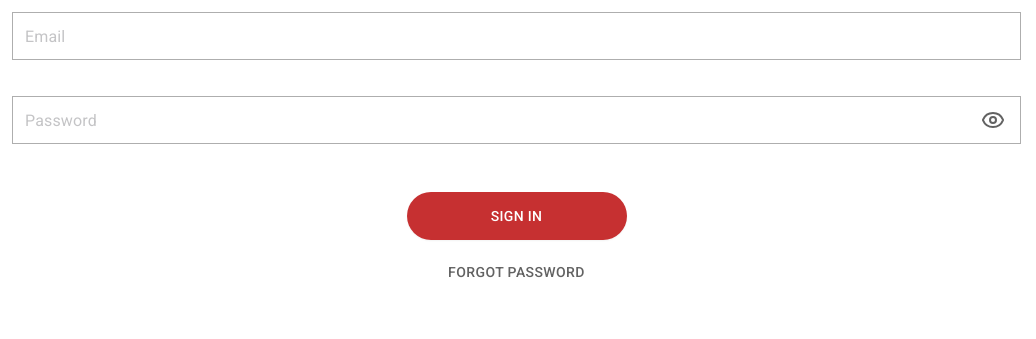
Test: LoginForm Component › should display validation errors when submitting an empty form
The image size is (1036, 339).
Click the button "SIGN IN" at (516, 216), box x1=406 y1=192 x2=626 y2=240
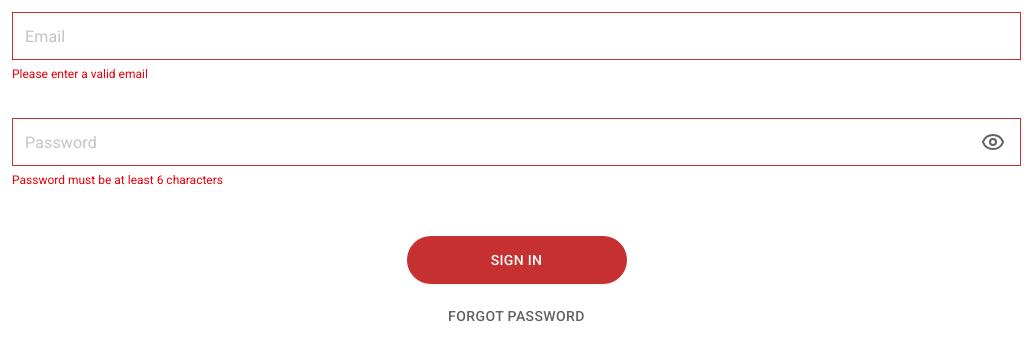
Expected: the text "Please enter a valid email" is shown, x1=12 y1=67 x2=148 y2=81
